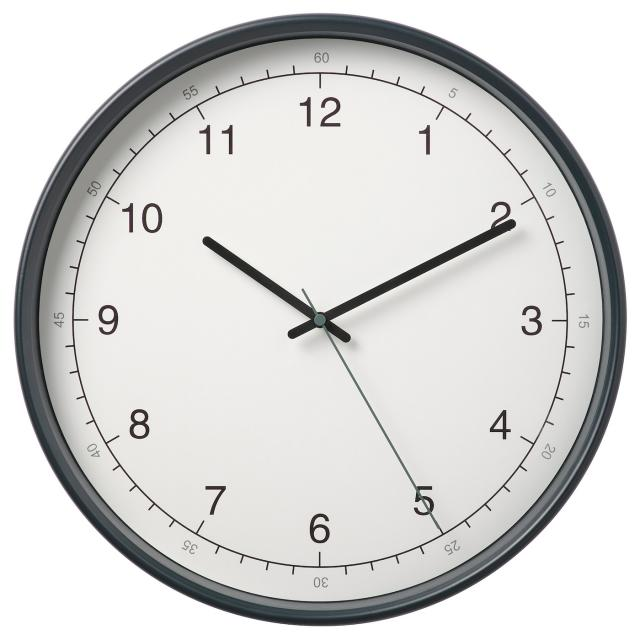clock: (39, 16, 640, 640)
